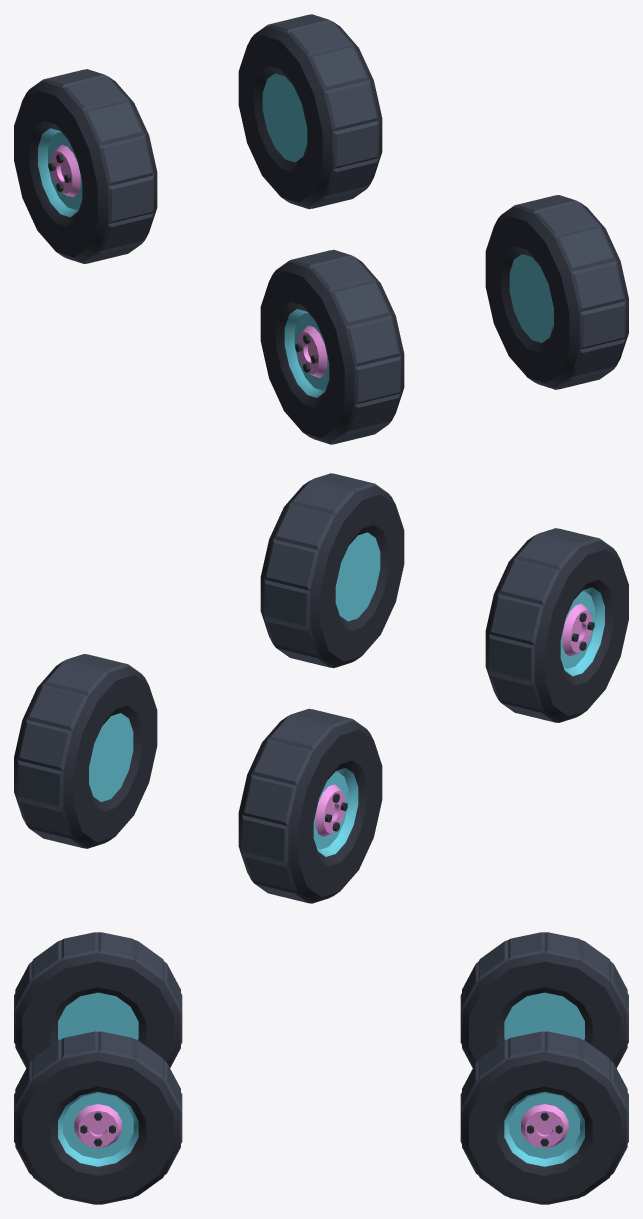
Rendered from WheelsOffroad.fbx.
3 renders of one model, top to bottom at view 1: azimuth 30°, elevation 25°; view 2: azimuth 150°, elevation 25°; view 3: azimuth 270°, elevation 25°, orthographic. The views are drawn at different scales.
Visible parts, largest first — view 1: WheelOffroadRearLeft, WheelOffroadFrontRight, WheelOffroadFrontLeft, WheelOffroadRearRight; view 2: WheelOffroadFrontLeft, WheelOffroadRearRight, WheelOffroadRearLeft, WheelOffroadFrontRight; view 3: WheelOffroadFrontLeft, WheelOffroadRearLeft, WheelOffroadFrontRight, WheelOffroadRearRight.
Part boxes in pixels (x1=…): WheelOffroadRearLeft: x1=238, y1=14, x2=382, y2=209; WheelOffroadFrontRight: x1=260, y1=249, x2=404, y2=444; WheelOffroadFrontLeft: x1=485, y1=195, x2=628, y2=389; WheelOffroadRearRight: x1=14, y1=69, x2=157, y2=263; WheelOffroadFrontLeft: x1=260, y1=473, x2=404, y2=668; WheelOffroadRearRight: x1=238, y1=708, x2=382, y2=903; WheelOffroadRearLeft: x1=14, y1=654, x2=157, y2=848; WheelOffroadFrontRight: x1=485, y1=528, x2=628, y2=722; WheelOffroadFrontLeft: x1=14, y1=1031, x2=182, y2=1204; WheelOffroadRearLeft: x1=460, y1=1031, x2=628, y2=1204; WheelOffroadFrontRight: x1=14, y1=932, x2=182, y2=1067; WheelOffroadRearRight: x1=460, y1=932, x2=628, y2=1067.
Size of the model in its own units: 180 by 104 by 373.
